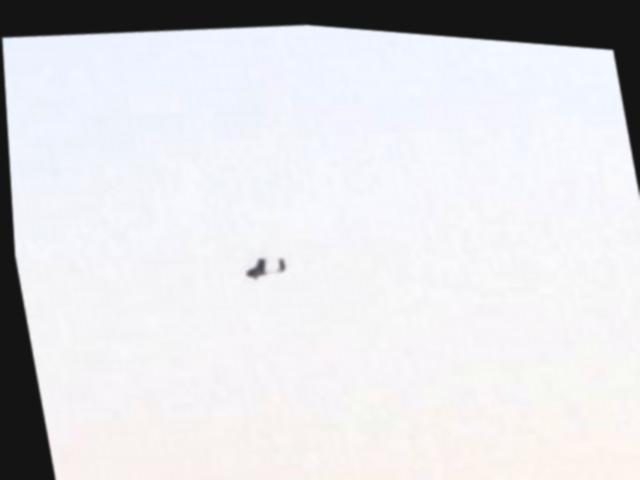uav: (229, 236, 296, 288)
